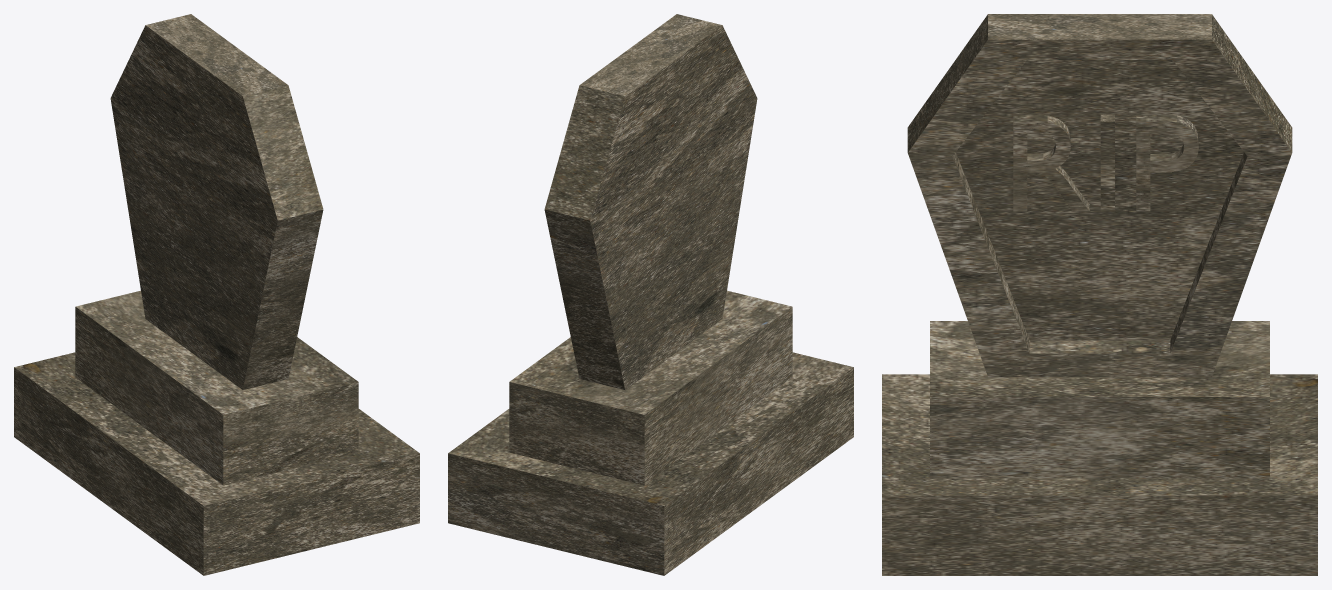
The model's file is tumba.fbx.
3 renders of one model, left to right at view 1: azimuth 30°, elevation 25°; view 2: azimuth 150°, elevation 25°; view 3: azimuth 270°, elevation 25°, orthographic. The views are drawn at different scales.
Visible parts, largest first — view 1: Cube; view 2: Cube; view 3: Cube.
Part boxes in pixels (left/top/right/bottom): Cube: left=14, top=14, right=419, bottom=575; Cube: left=448, top=14, right=853, bottom=575; Cube: left=882, top=14, right=1317, bottom=575.
Bounding box in the file's own units: 132 × 247 × 200.
1 material, 1 textured.
